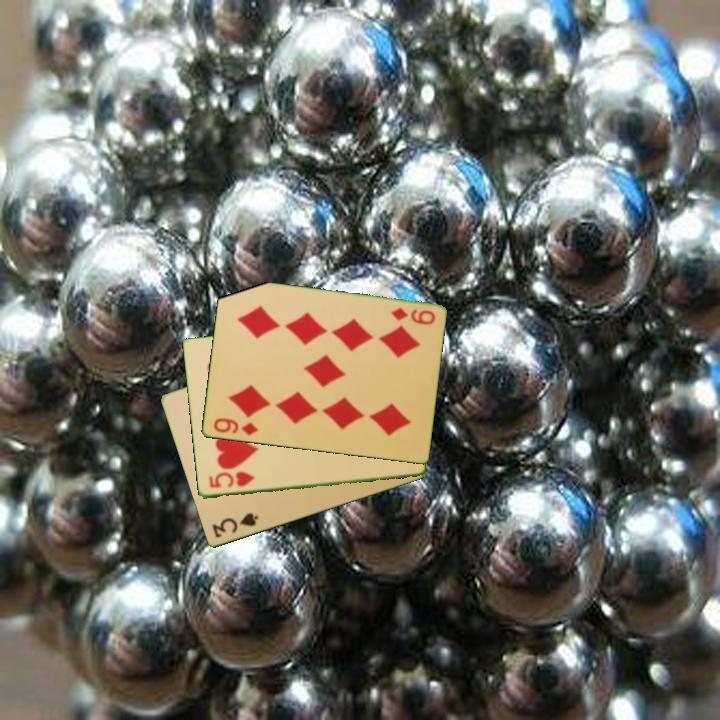3s: (208, 509, 261, 541)
5h: (205, 468, 257, 491)
9d: (210, 415, 261, 439), (387, 304, 438, 328)
